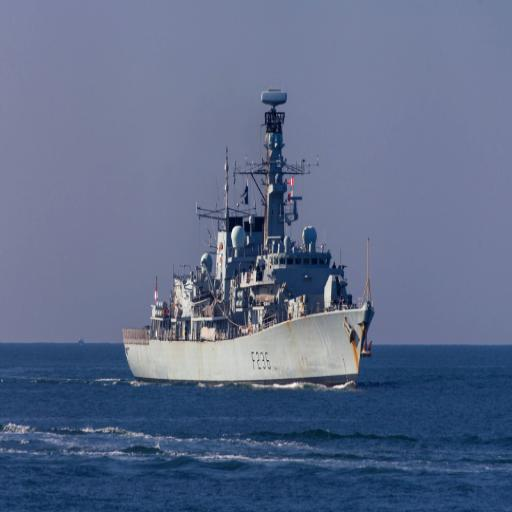Fragata: (122, 83, 380, 394)
